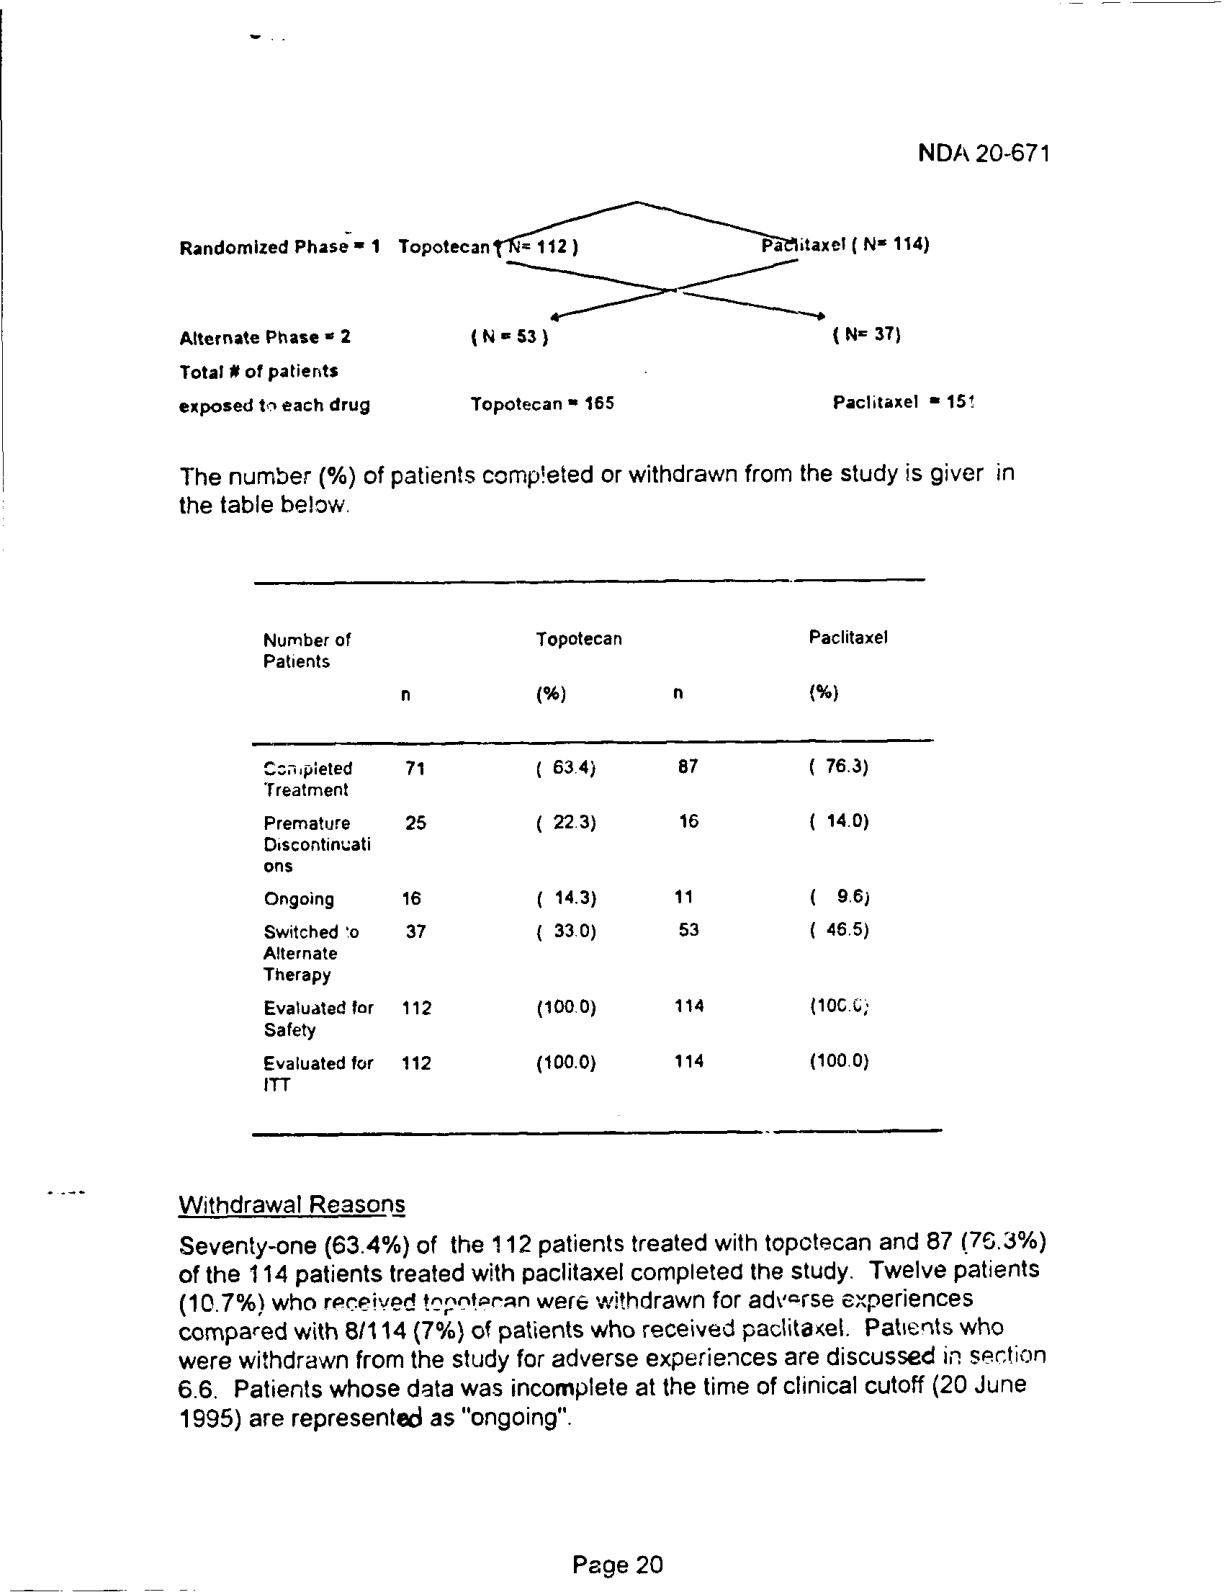partial_lined: (251, 579, 941, 1131)
